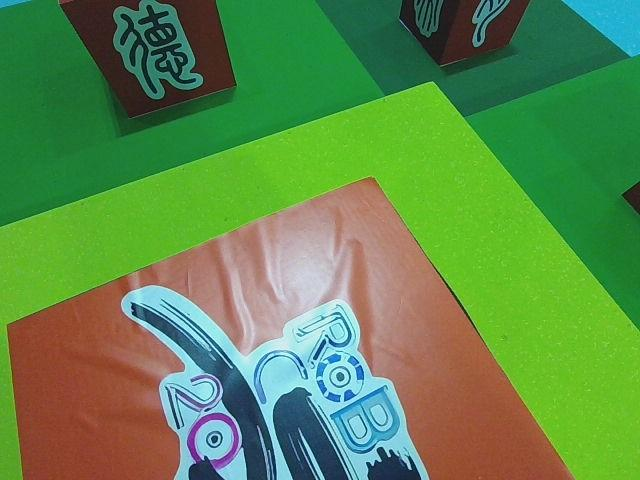R1: (4, 174, 578, 480)
R2 Fake: (54, 0, 236, 120), (398, 0, 530, 67)
